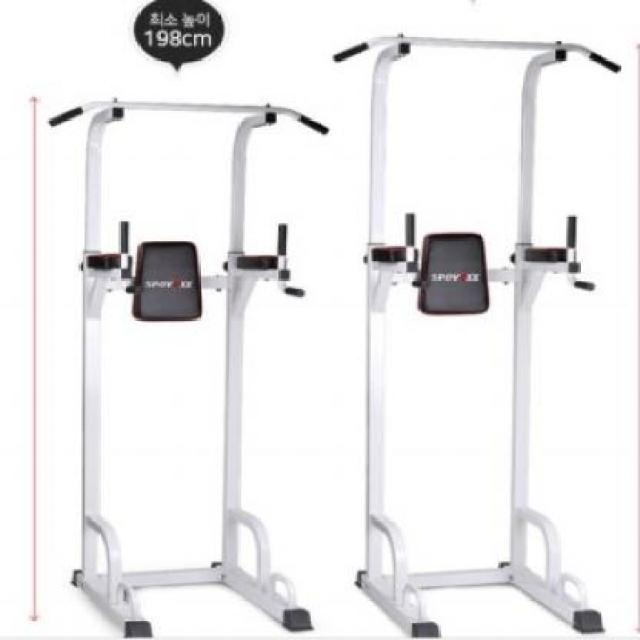chinning dipping: (336, 29, 622, 637)
